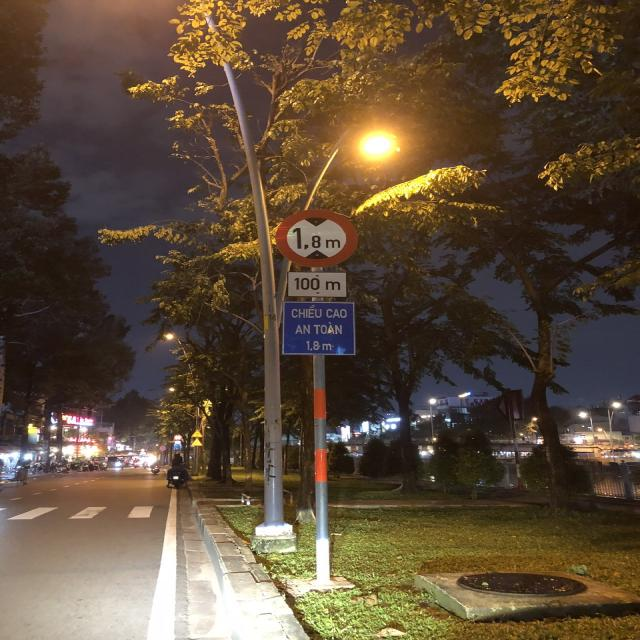Bien bao han che chieu cao: (268, 200, 356, 272)
